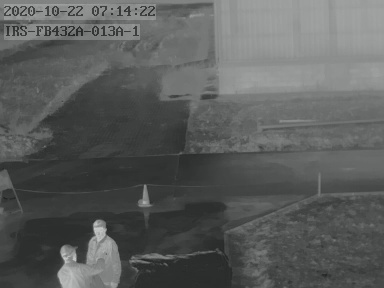person: (57, 219, 121, 286)
